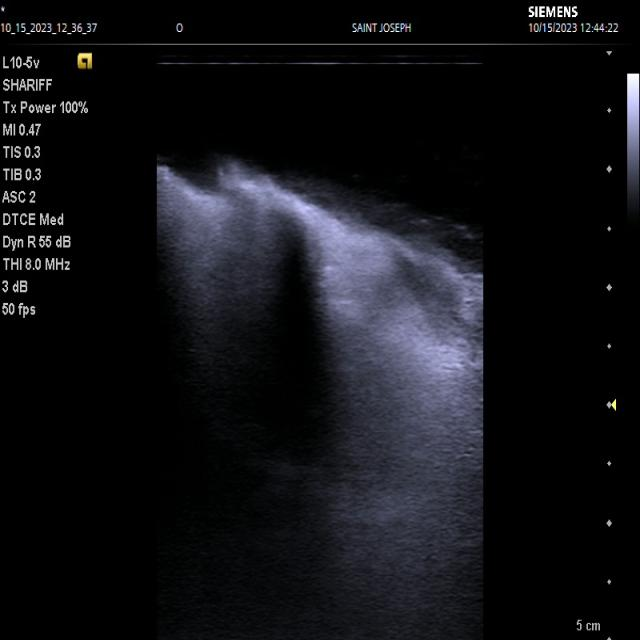tissue: (196, 180, 420, 487)
